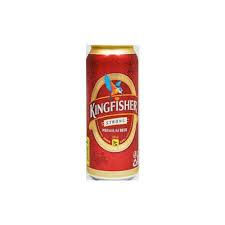beer: (85, 44, 141, 180)
